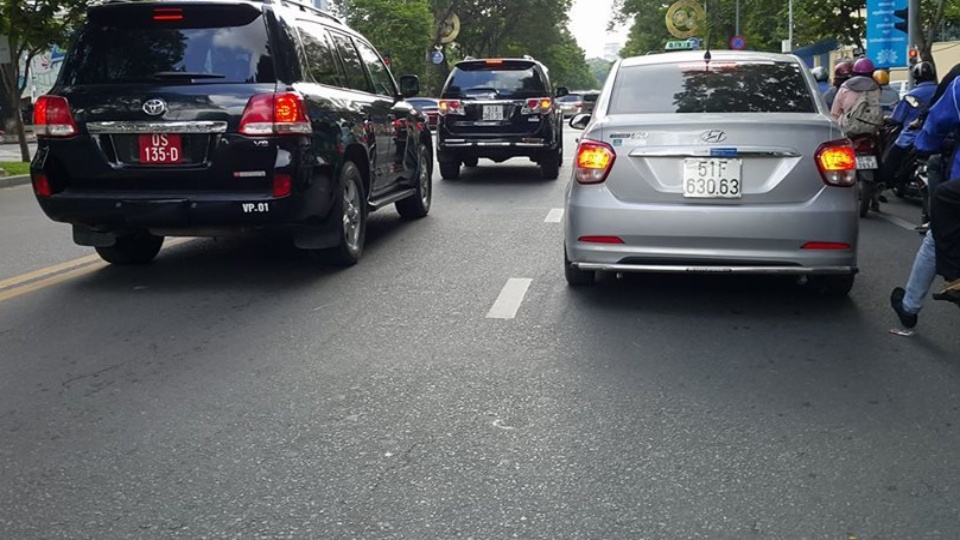plate: (681, 157, 743, 199), (135, 129, 182, 166), (479, 102, 505, 121), (856, 154, 880, 171)
